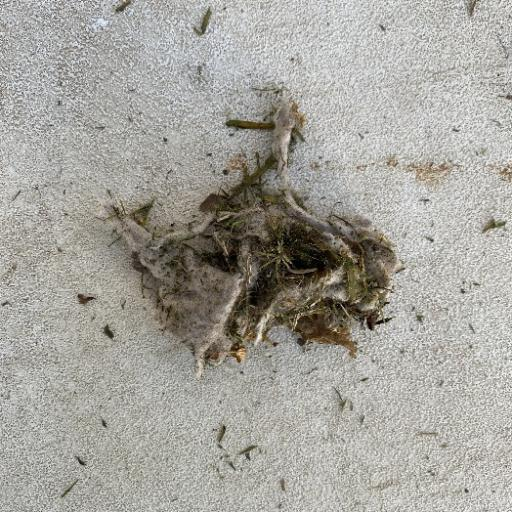Waste: (1, 1, 510, 510), (104, 91, 402, 378)
